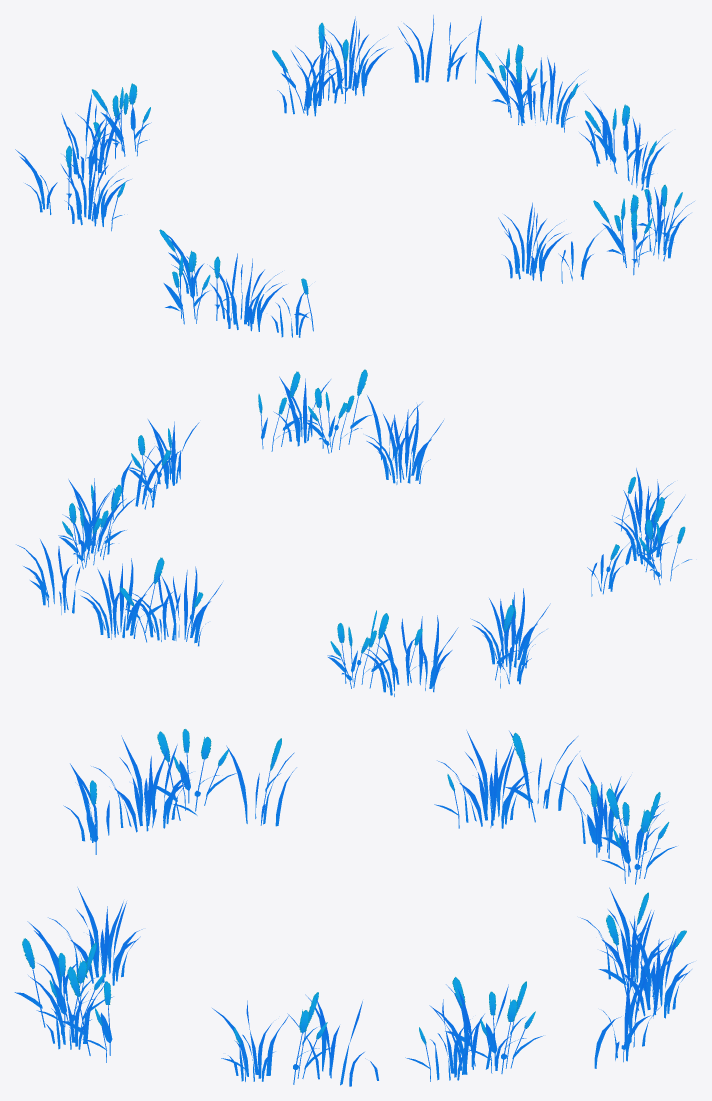
The model's file is Homeworld_Exterior_Common_Thing_FieldGrass_03_Lod0.fbx.
3 views of the same model, one above another, from view 1: azimuth 30°, elevation 25°; view 2: azimuth 150°, elevation 25°; view 3: azimuth 270°, elevation 25° (orthographic). The views are drawn at different scales.
Parts seen in each view (by area): view 1: Homeworld_Exterior_Common_Thing_FieldGrass_03_Lod0; view 2: Homeworld_Exterior_Common_Thing_FieldGrass_03_Lod0; view 3: Homeworld_Exterior_Common_Thing_FieldGrass_03_Lod0.
Part boxes in pixels (<box>): Homeworld_Exterior_Common_Thing_FieldGrass_03_Lod0: <box>15,15,694,337</box>; Homeworld_Exterior_Common_Thing_FieldGrass_03_Lod0: <box>16,369,691,696</box>; Homeworld_Exterior_Common_Thing_FieldGrass_03_Lod0: <box>14,729,692,1086</box>.
Size of the model in its own units: 6.57 by 0.8679 by 6.16.
